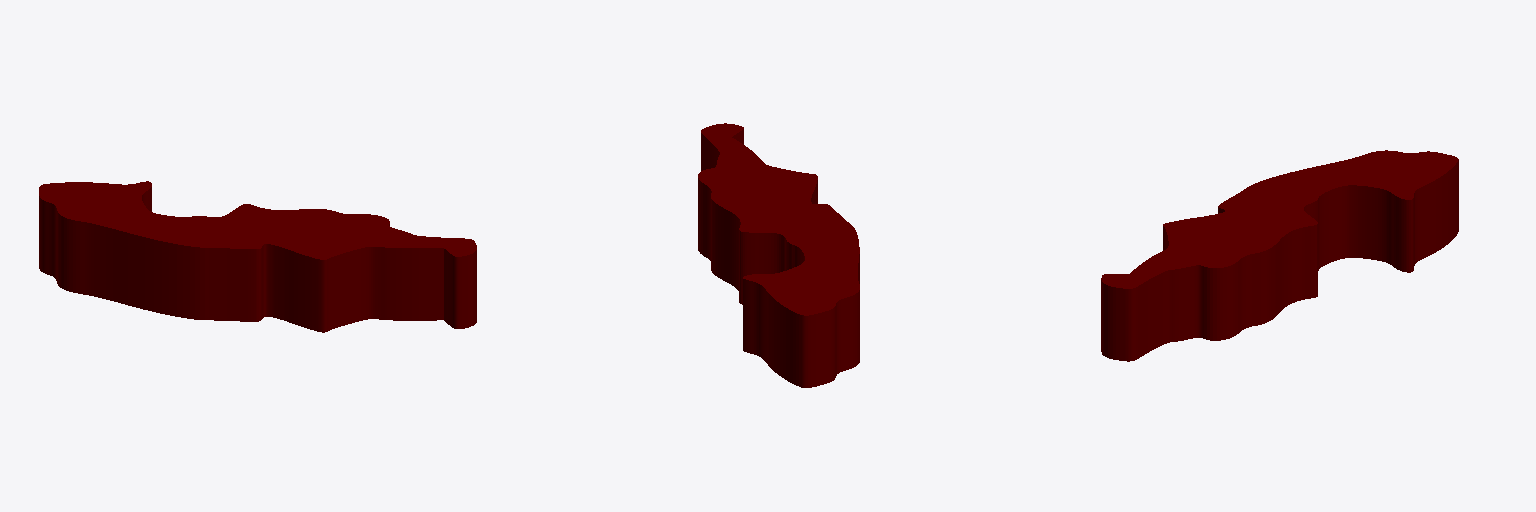
The model's file is South_America_03.obj.
The picture shows the model from 3 angles: view 1: azimuth 30°, elevation 25°; view 2: azimuth 150°, elevation 25°; view 3: azimuth 270°, elevation 25°; orthographic projection.
Parts seen in each view (by area): view 1: South_America_03_path4214; view 2: South_America_03_path4214; view 3: South_America_03_path4214.
Part boxes in pixels (bbox=[...]): South_America_03_path4214: bbox=[39, 181, 476, 332]; South_America_03_path4214: bbox=[698, 123, 859, 387]; South_America_03_path4214: bbox=[1101, 150, 1458, 361].
Bounding box in the file's own units: 0.4096 × 0.1 × 0.4462.